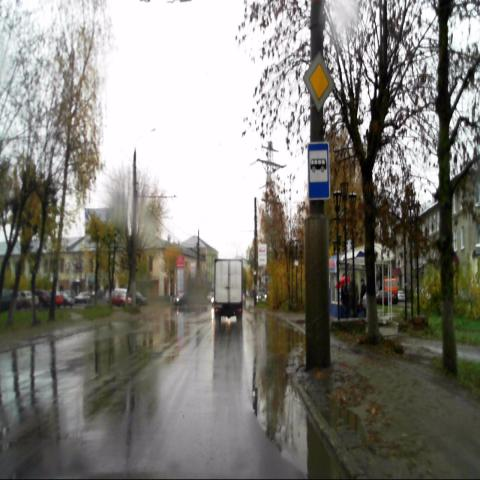2_1: (303, 52, 334, 112)
5_16: (307, 141, 330, 201)
